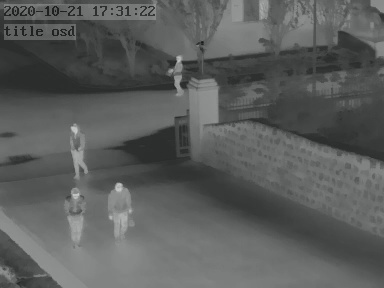person: (106, 181, 132, 241), (64, 187, 85, 248), (69, 120, 87, 178), (169, 55, 183, 94)
